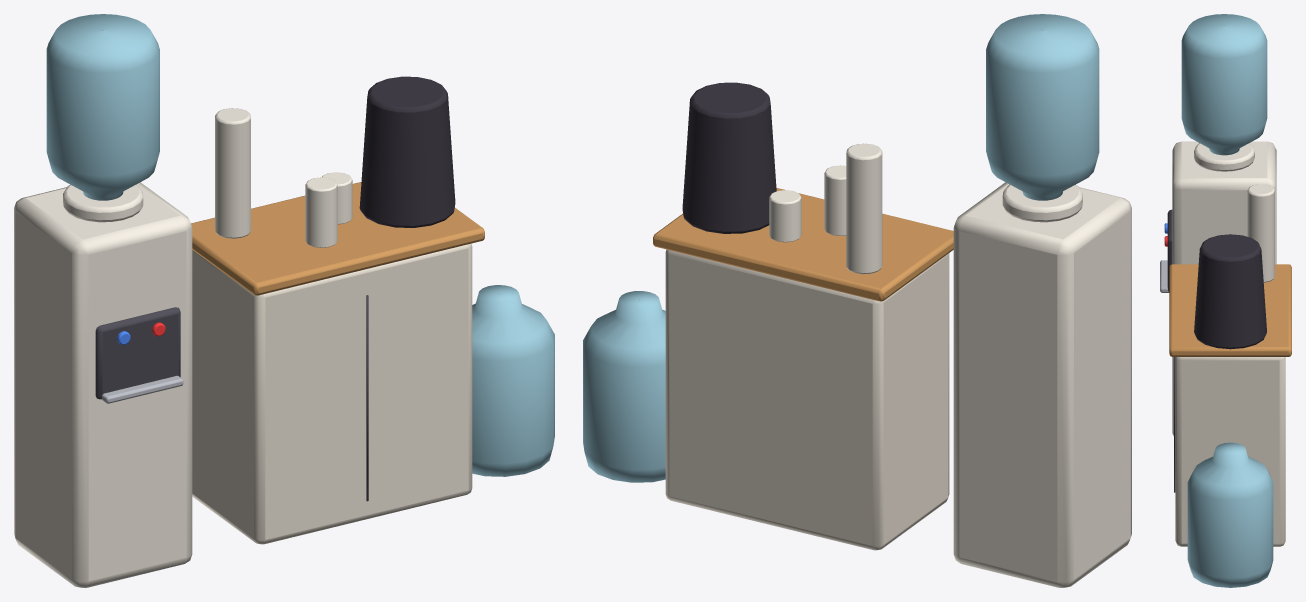
Rendered from water_cooler.glb.
The picture shows the model from 3 angles, left to right: view 1: azimuth 30°, elevation 25°; view 2: azimuth 150°, elevation 25°; view 3: azimuth 270°, elevation 25°; orthographic projection. The views are drawn at different scales.
Visible parts, largest first — view 1: water_cooler; view 2: water_cooler; view 3: water_cooler.
Part boxes in pixels (x1,y1,x2,y2): water_cooler: (14,14,554,587); water_cooler: (583,14,1131,587); water_cooler: (1160,14,1291,587).
Bounding box in the file's own units: 1.45 × 1.43 × 0.43.
